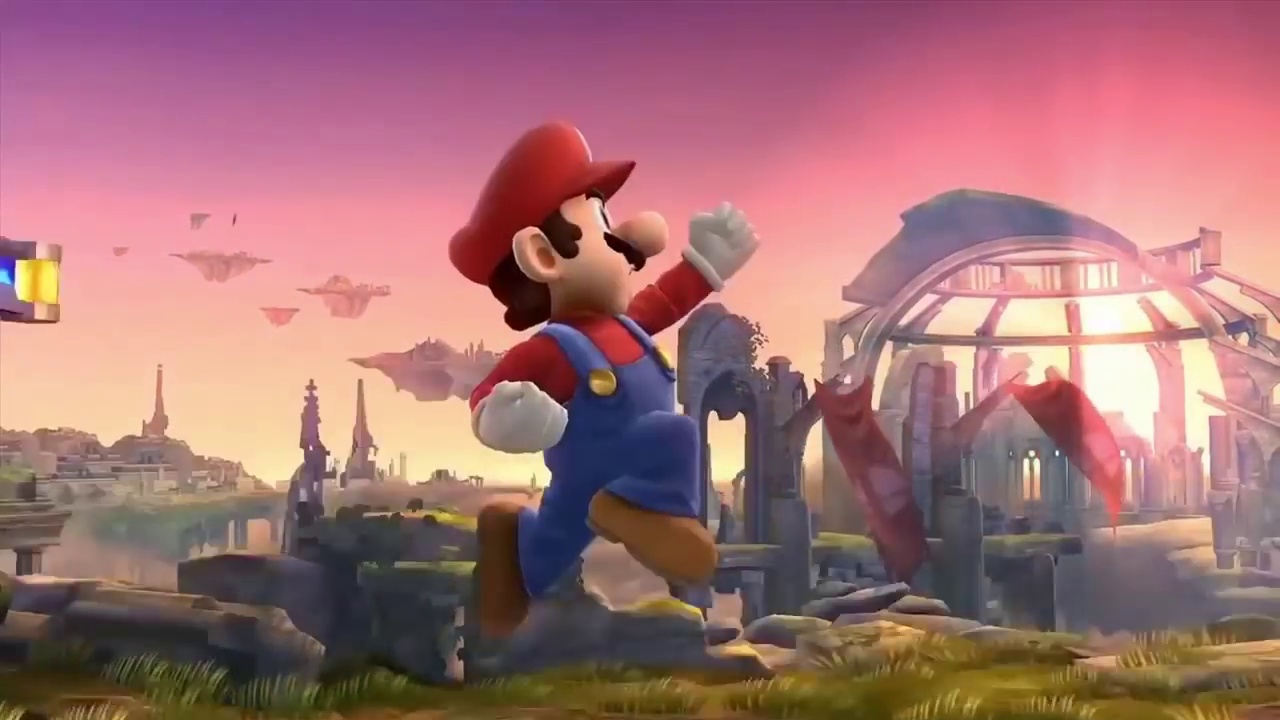Mario: (448, 121, 759, 638)
